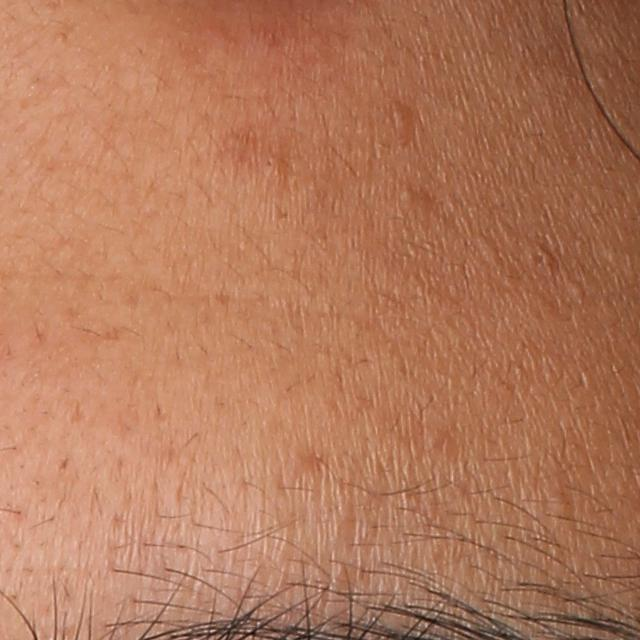comedo: (543, 491, 571, 515), (392, 105, 416, 131), (566, 276, 585, 305), (395, 183, 420, 205)
